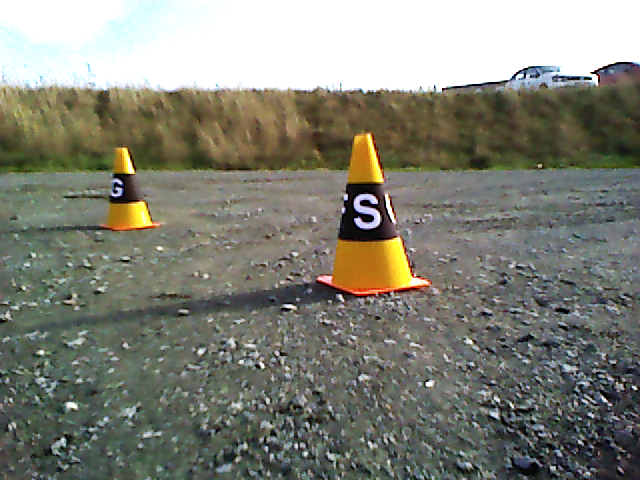yellowcone: (336, 134, 413, 285), (107, 147, 150, 225)
